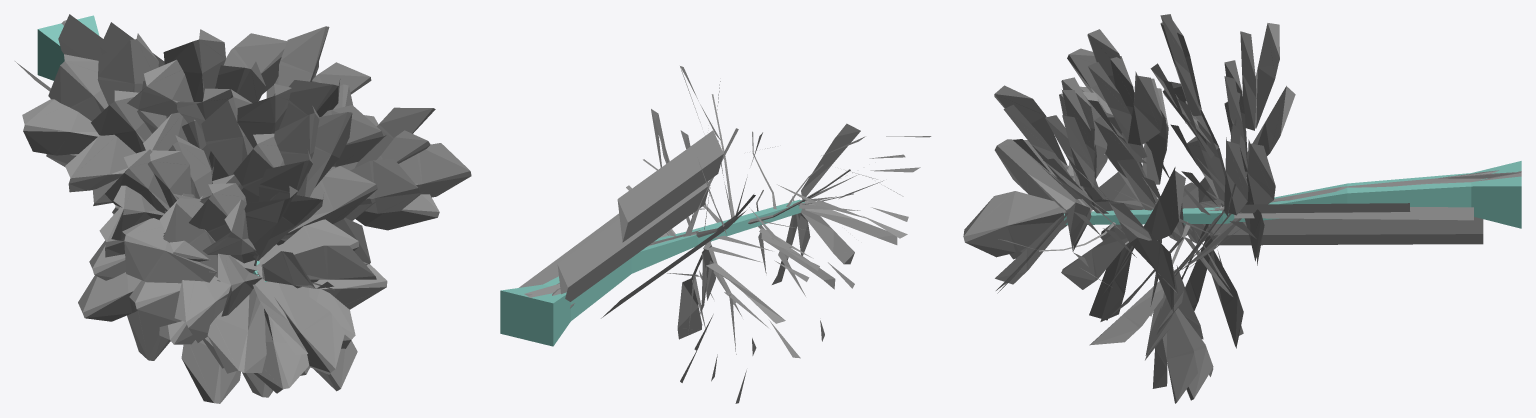
File: trop_CecropiaTree01.glb
3 renders of one model, left to right at view 1: azimuth 30°, elevation 25°; view 2: azimuth 150°, elevation 25°; view 3: azimuth 270°, elevation 25°, orthographic. The views are drawn at different scales.
Visible parts, largest first — view 1: geometry_0; view 2: geometry_0; view 3: geometry_0.
Part boxes in pixels (bbox=[...]): geometry_0: bbox=[15, 14, 471, 403]; geometry_0: bbox=[500, 66, 931, 403]; geometry_0: bbox=[963, 14, 1521, 403].
Size of the model in its own units: 20.89 by 20.66 by 30.
